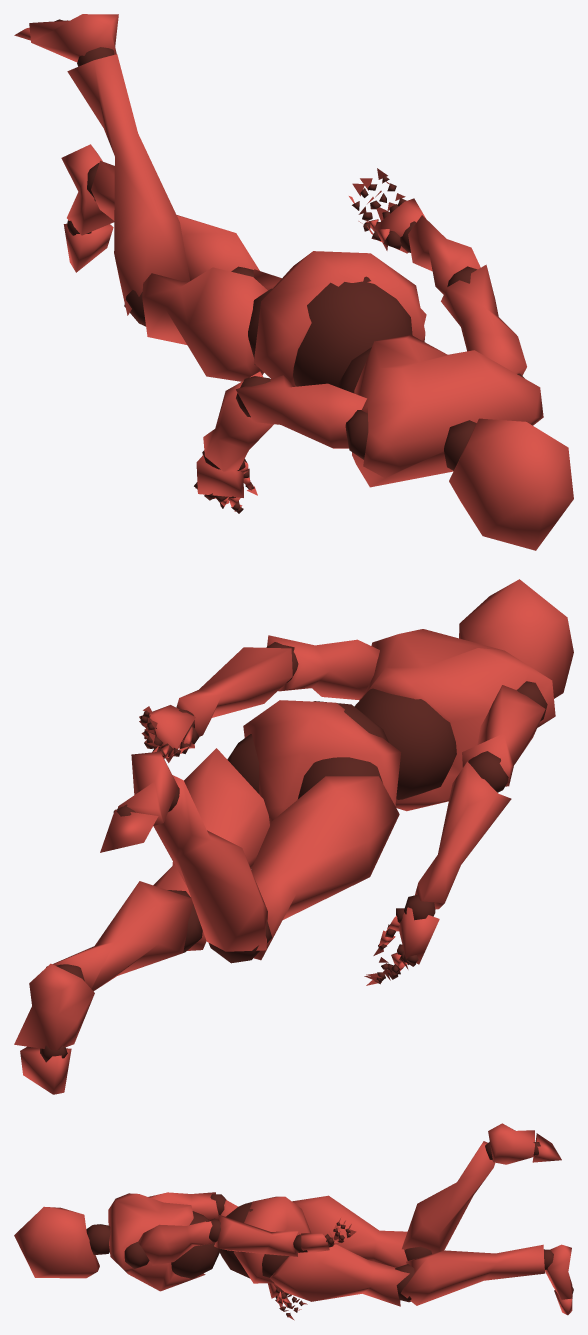
3 renders of one model, top to bottom at view 1: azimuth 30°, elevation 25°; view 2: azimuth 150°, elevation 25°; view 3: azimuth 270°, elevation 25°, orthographic. The views are drawn at different scales.
Visible parts, largest first — view 1: Beta_Surface, Beta_Joints; view 2: Beta_Surface, Beta_Joints; view 3: Beta_Surface, Beta_Joints.
Boxes of the visible parts, x1,y1,x2,y2 form: Beta_Surface: (14,14,573,550); Beta_Joints: (55,19,524,513); Beta_Surface: (14,579,573,1094); Beta_Joints: (40,642,547,1062); Beta_Surface: (14,1123,572,1320); Beta_Joints: (86,1142,573,1317).
Size of the model in its own units: 0.5811 by 0.7183 by 1.79.
